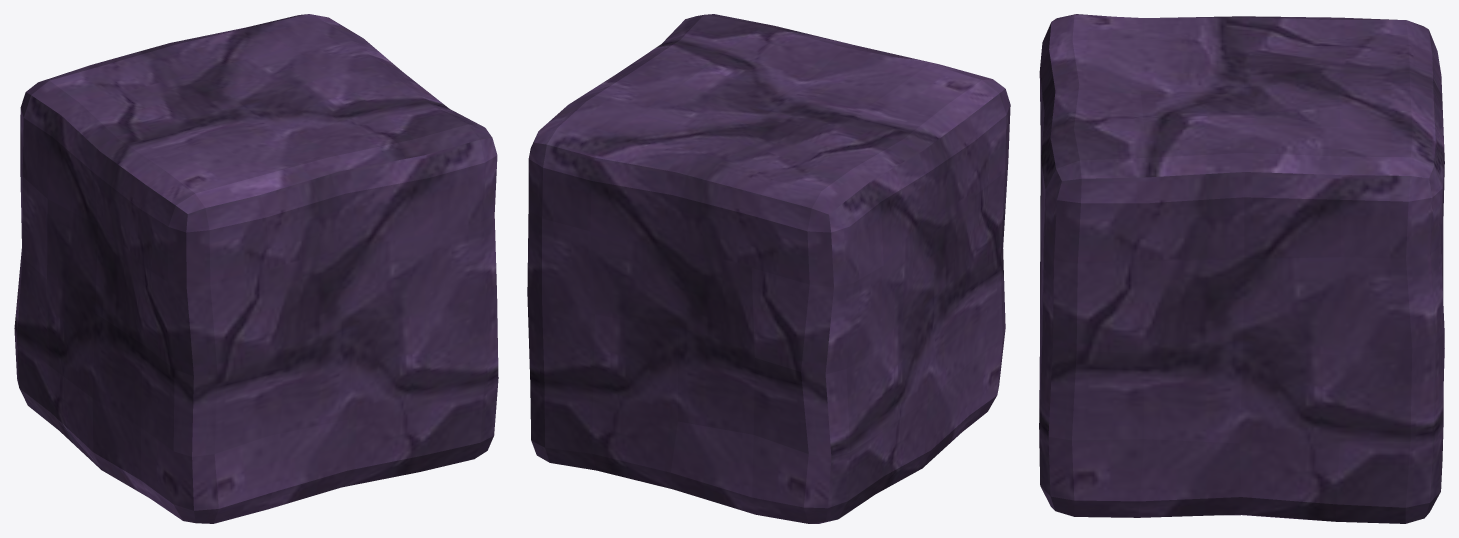
Rendered from sporestone_block.glb.
3 views of the same model, side by side, from view 1: azimuth 30°, elevation 25°; view 2: azimuth 150°, elevation 25°; view 3: azimuth 270°, elevation 25° (orthographic). The views are drawn at different scales.
Visible parts, largest first — view 1: model; view 2: model; view 3: model.
Boxes of the visible parts, x1,y1,x2,y2 form: model: (14, 14, 498, 523); model: (527, 14, 1010, 523); model: (1039, 14, 1444, 523).
Size of the model in its own units: 0.2464 by 0.2478 by 0.2445.
Materials: 1 (1 with a texture image).
